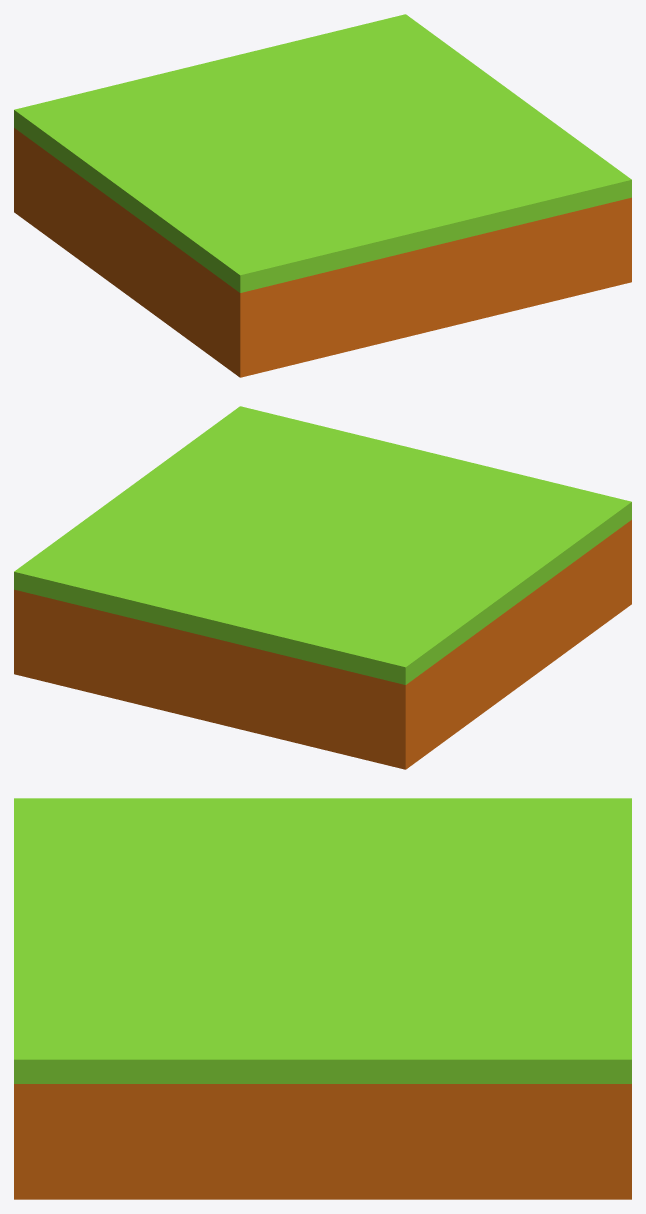
File: Road.fbx
3 views of the same model, one above another, from view 1: azimuth 30°, elevation 25°; view 2: azimuth 150°, elevation 25°; view 3: azimuth 270°, elevation 25° (orthographic). The views are drawn at different scales.
Visible parts, largest first — view 1: Road, Ground; view 2: Road, Ground; view 3: Road, Ground.
Boxes of the visible parts, left/top/right/bottom form: Road: left=14, top=14, right=631, bottom=292; Ground: left=14, top=128, right=631, bottom=377; Road: left=14, top=406, right=631, bottom=684; Ground: left=14, top=520, right=631, bottom=769; Road: left=14, top=798, right=631, bottom=1083; Ground: left=14, top=1084, right=631, bottom=1199.
Bounding box in the file's own units: 800 × 200 × 800.
